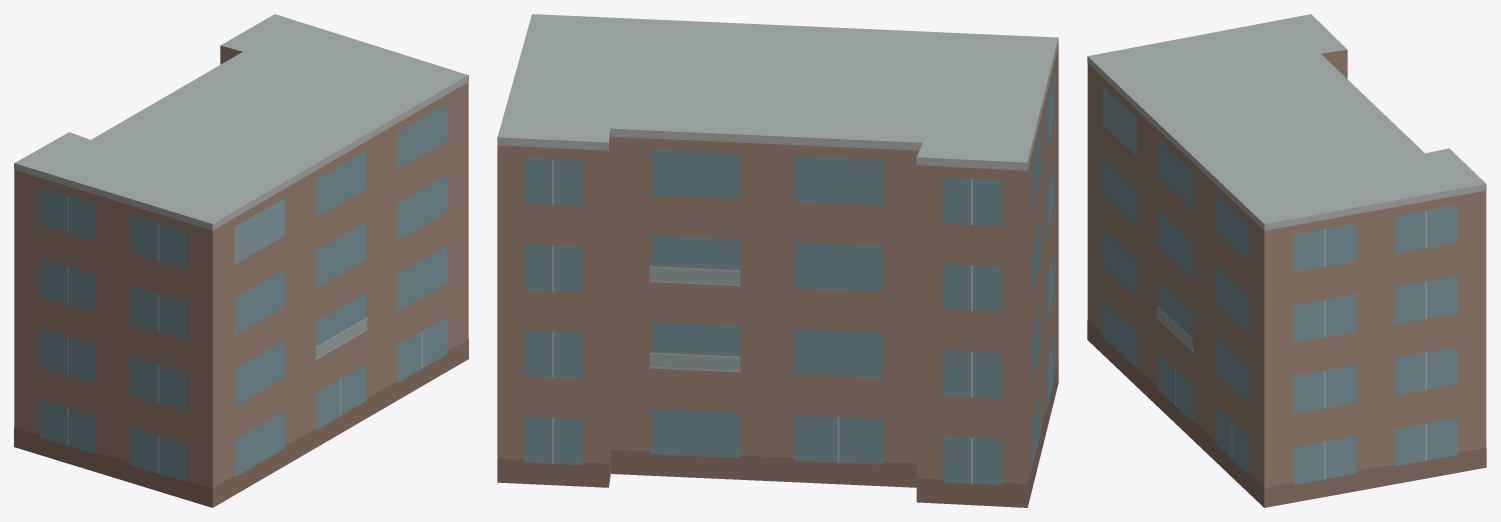
Rendered from survey-upis-32980052.glb.
3 renders of one model, left to right at view 1: azimuth 30°, elevation 25°; view 2: azimuth 150°, elevation 25°; view 3: azimuth 270°, elevation 25°, orthographic. The views are drawn at different scales.
Parts seen in each view (by area): view 1: survey-upis-32980052.tmp; view 2: survey-upis-32980052.tmp; view 3: survey-upis-32980052.tmp.
Boxes of the visible parts, x1,y1,x2,y2 form: survey-upis-32980052.tmp: (14,14,468,507); survey-upis-32980052.tmp: (497,14,1058,507); survey-upis-32980052.tmp: (1087,14,1486,507).
Size of the model in its own units: 16.7 by 10.5 by 13.39.
